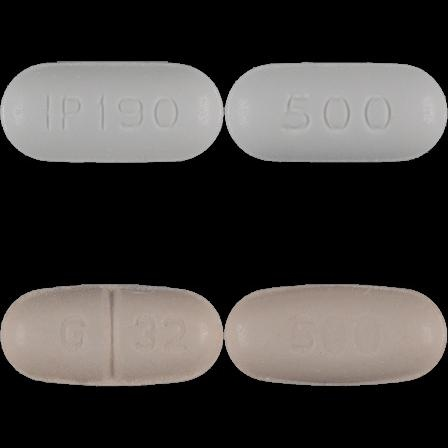35356-682: (0, 0, 224, 224)
